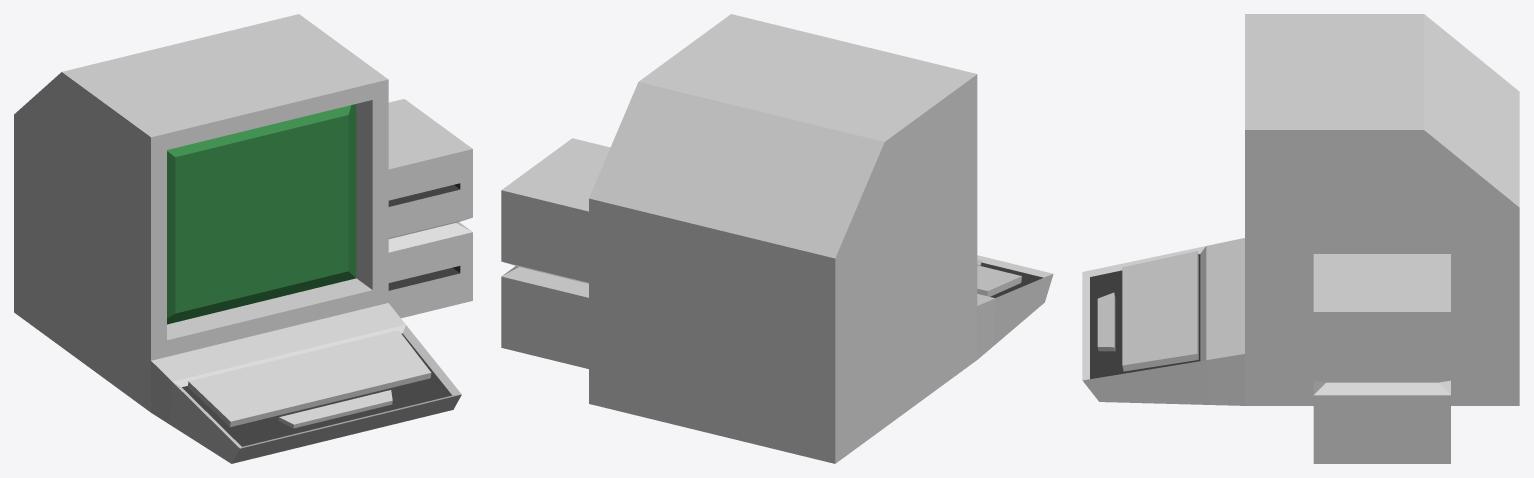
Rendered from Computer.fbx.
The picture shows the model from 3 angles, left to right: view 1: azimuth 30°, elevation 25°; view 2: azimuth 150°, elevation 25°; view 3: azimuth 270°, elevation 25°; orthographic projection. The views are drawn at different scales.
Parts seen in each view (by area): view 1: Cube; view 2: Cube; view 3: Cube.
Part boxes in pixels (bbox=[...]): Cube: bbox=[14, 14, 472, 463]; Cube: bbox=[501, 14, 1053, 463]; Cube: bbox=[1082, 14, 1519, 463].
Size of the model in its own units: 300 by 222 by 318.
